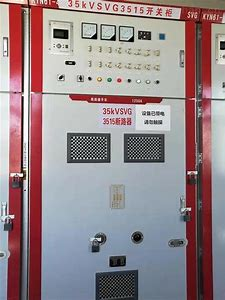pointer: (82, 22, 97, 37), (119, 26, 135, 40), (101, 24, 115, 39)
